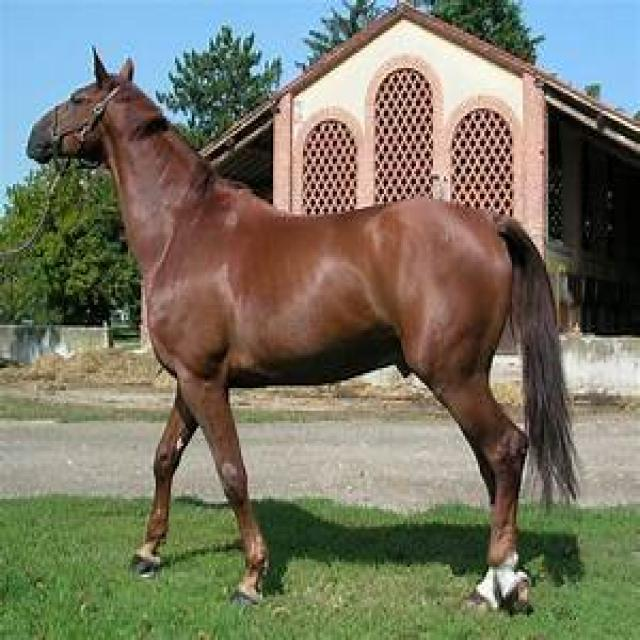horse: (22, 34, 600, 626)
